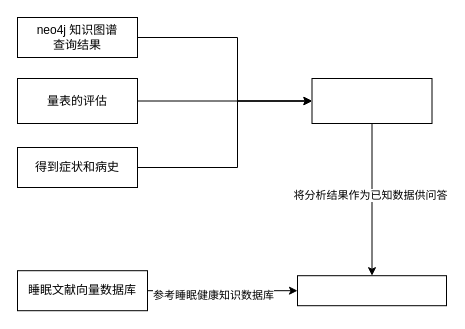
Some shapes in this 465 by 329 pixel diagram are drawn without their labels. Each missing label, with the centre of its shape:
"AI问诊" goes at (x=371, y=290).
"综合整理得到分析结果" goes at (x=371, y=101).
